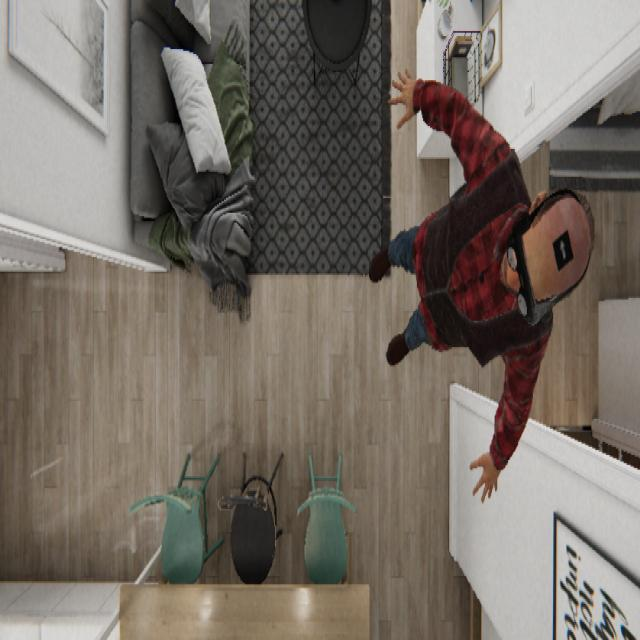Human: (367, 65, 595, 502)
UnityLogo: (552, 226, 574, 272)
